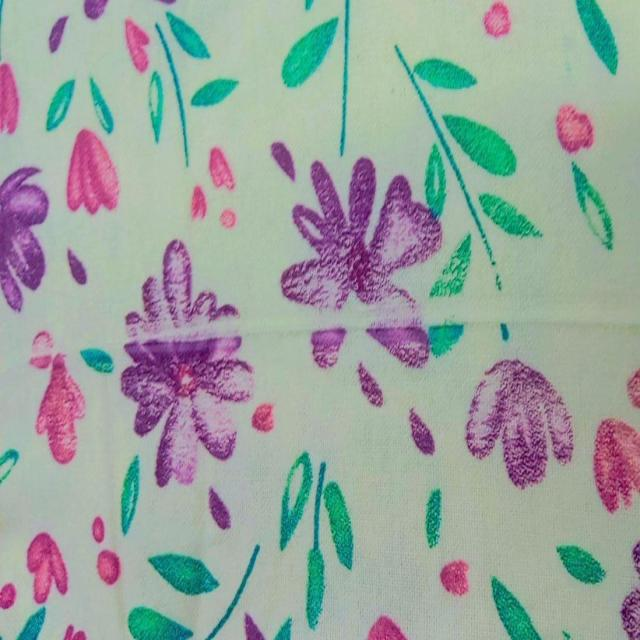selvet: (0, 294, 639, 374)
